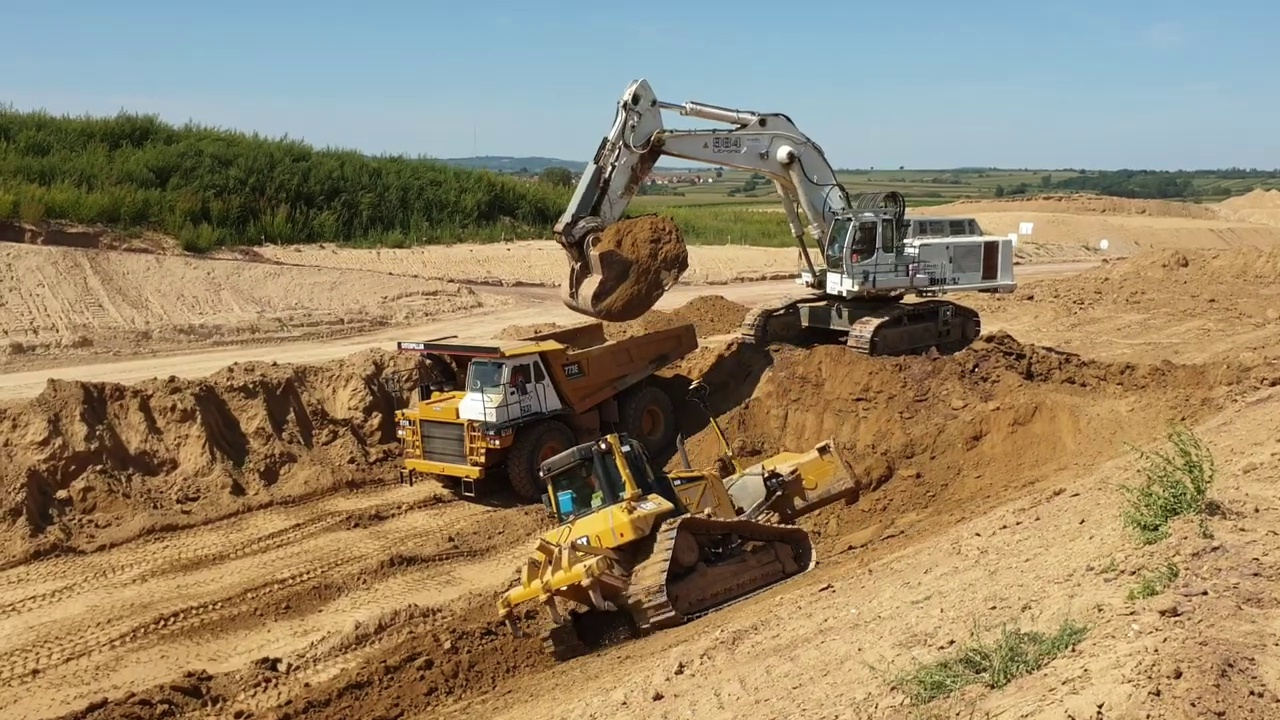bulldozer: (499, 385, 867, 662)
excavator: (550, 72, 1026, 362)
truck: (399, 321, 702, 506)
